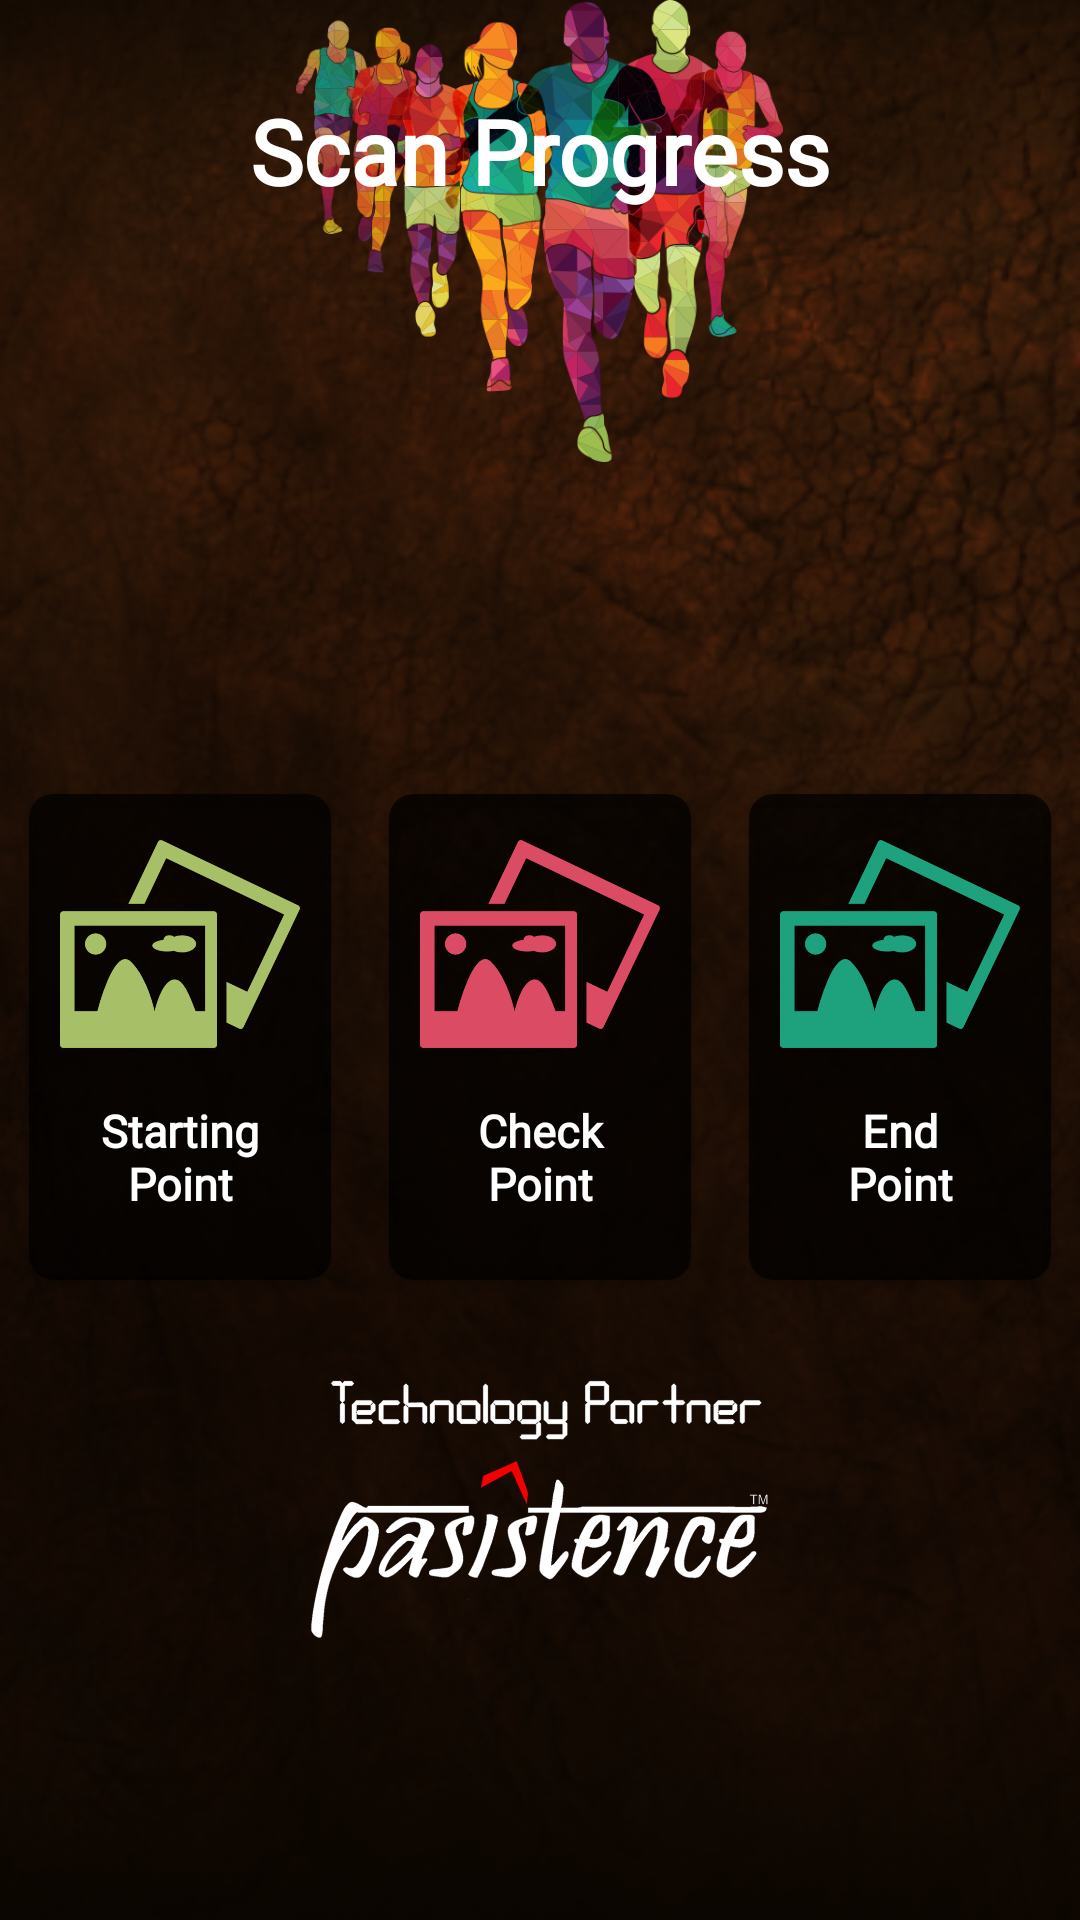

Icons on this 1080px x 1920px Android screen, each with its box as (x1,y1,x2,y2):
gallery: (60,840,300,1048), (420,840,660,1048), (780,840,1020,1048)
